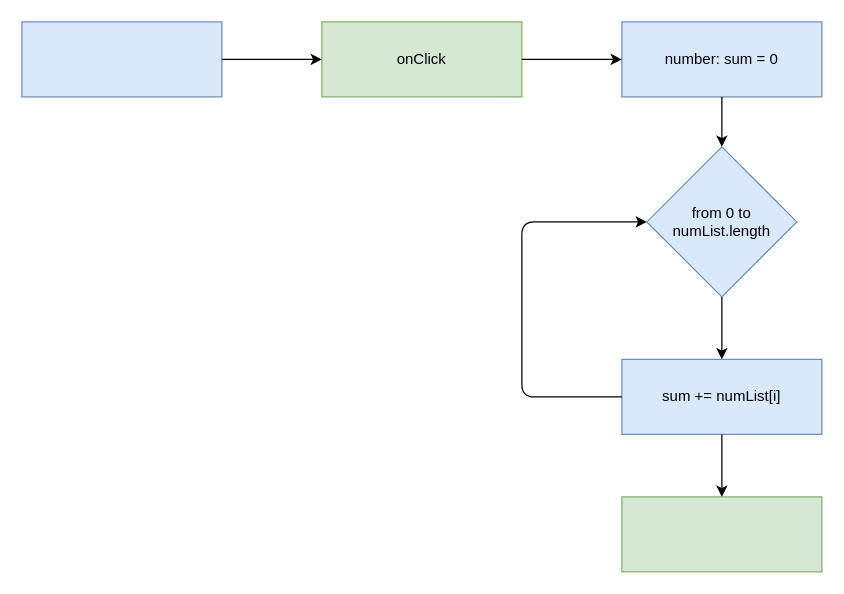
This 844x594 diagram has some shape labels left out. Each missing label, with the centre of its shape:
array: numList = {42, 6, 3, 7, 4, 2}: the point at 121,59
render sum: the point at 721,534
